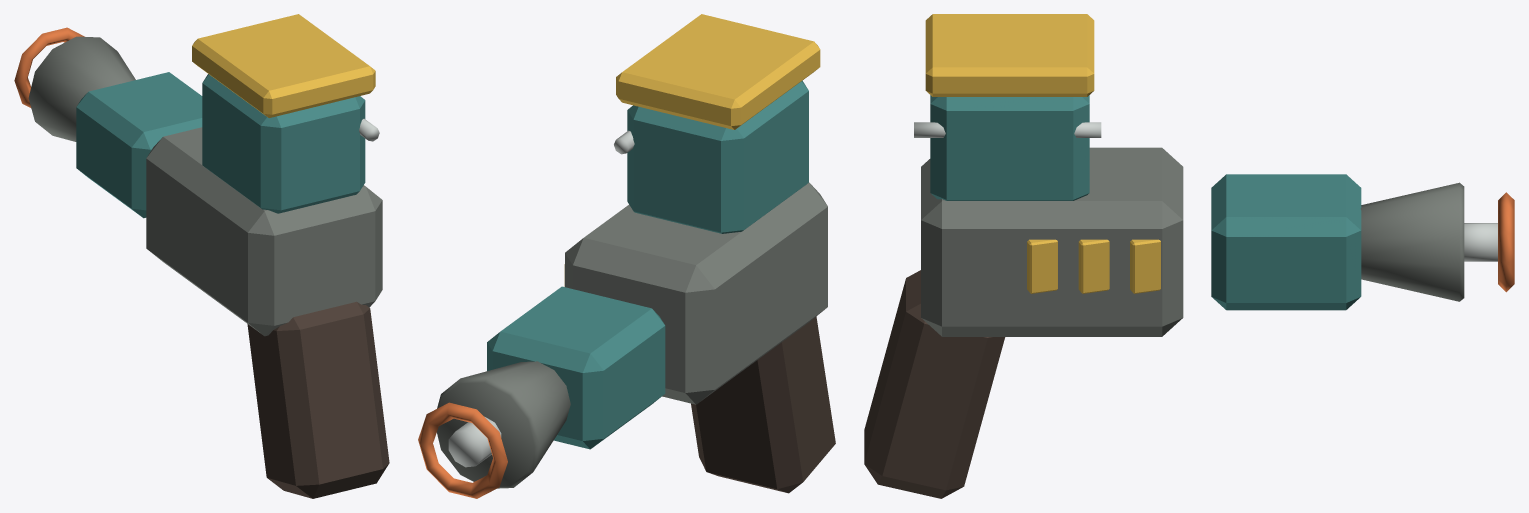
The model's file is NailGun.glb.
3 views of the same model, side by side, from view 1: azimuth 30°, elevation 25°; view 2: azimuth 150°, elevation 25°; view 3: azimuth 270°, elevation 25° (orthographic). The views are drawn at different scales.
Parts seen in each view (by area): view 1: Main body, Grip, Top magazine hopper, Hopper lid, Nose housing, Nail nose, Nose accent; view 2: Main body, Top magazine hopper, Nose housing, Grip, Hopper lid, Nail nose, Nose accent, Driver; view 3: Main body, Nose housing, Grip, Top magazine hopper, Hopper lid, Nail nose, Warning stripe.001, Warning stripe, Warning stripe.002, Nose accent, Driver.
Boxes of the visible parts, x1,y1,x2,y2 form: Main body: (146, 127, 382, 336); Grip: (247, 301, 389, 498); Top magazine hopper: (202, 74, 365, 213); Hopper lid: (192, 14, 375, 117); Nose housing: (76, 72, 202, 218); Nail nose: (28, 36, 135, 141); Nose accent: (14, 27, 84, 107); Main body: (565, 182, 827, 404); Top magazine hopper: (627, 80, 808, 233); Nose housing: (487, 286, 665, 449); Grip: (691, 316, 835, 493); Hopper lid: (616, 14, 820, 129); Nail nose: (437, 361, 570, 488); Nose accent: (418, 402, 507, 498); Driver: (448, 416, 501, 467); Main body: (921, 147, 1183, 336); Nose housing: (1211, 174, 1361, 310); Grip: (864, 270, 1005, 498); Top magazine hopper: (930, 95, 1089, 200); Hopper lid: (925, 14, 1094, 96); Nail nose: (1360, 182, 1464, 301); Warning stripe.001: (1078, 239, 1109, 293); Warning stripe: (1027, 239, 1057, 293); Warning stripe.002: (1130, 239, 1160, 293); Nose accent: (1498, 192, 1514, 292); Driver: (1464, 223, 1497, 261).
Bounding box in the file's own units: 0.3807 × 1.04 × 1.39.
